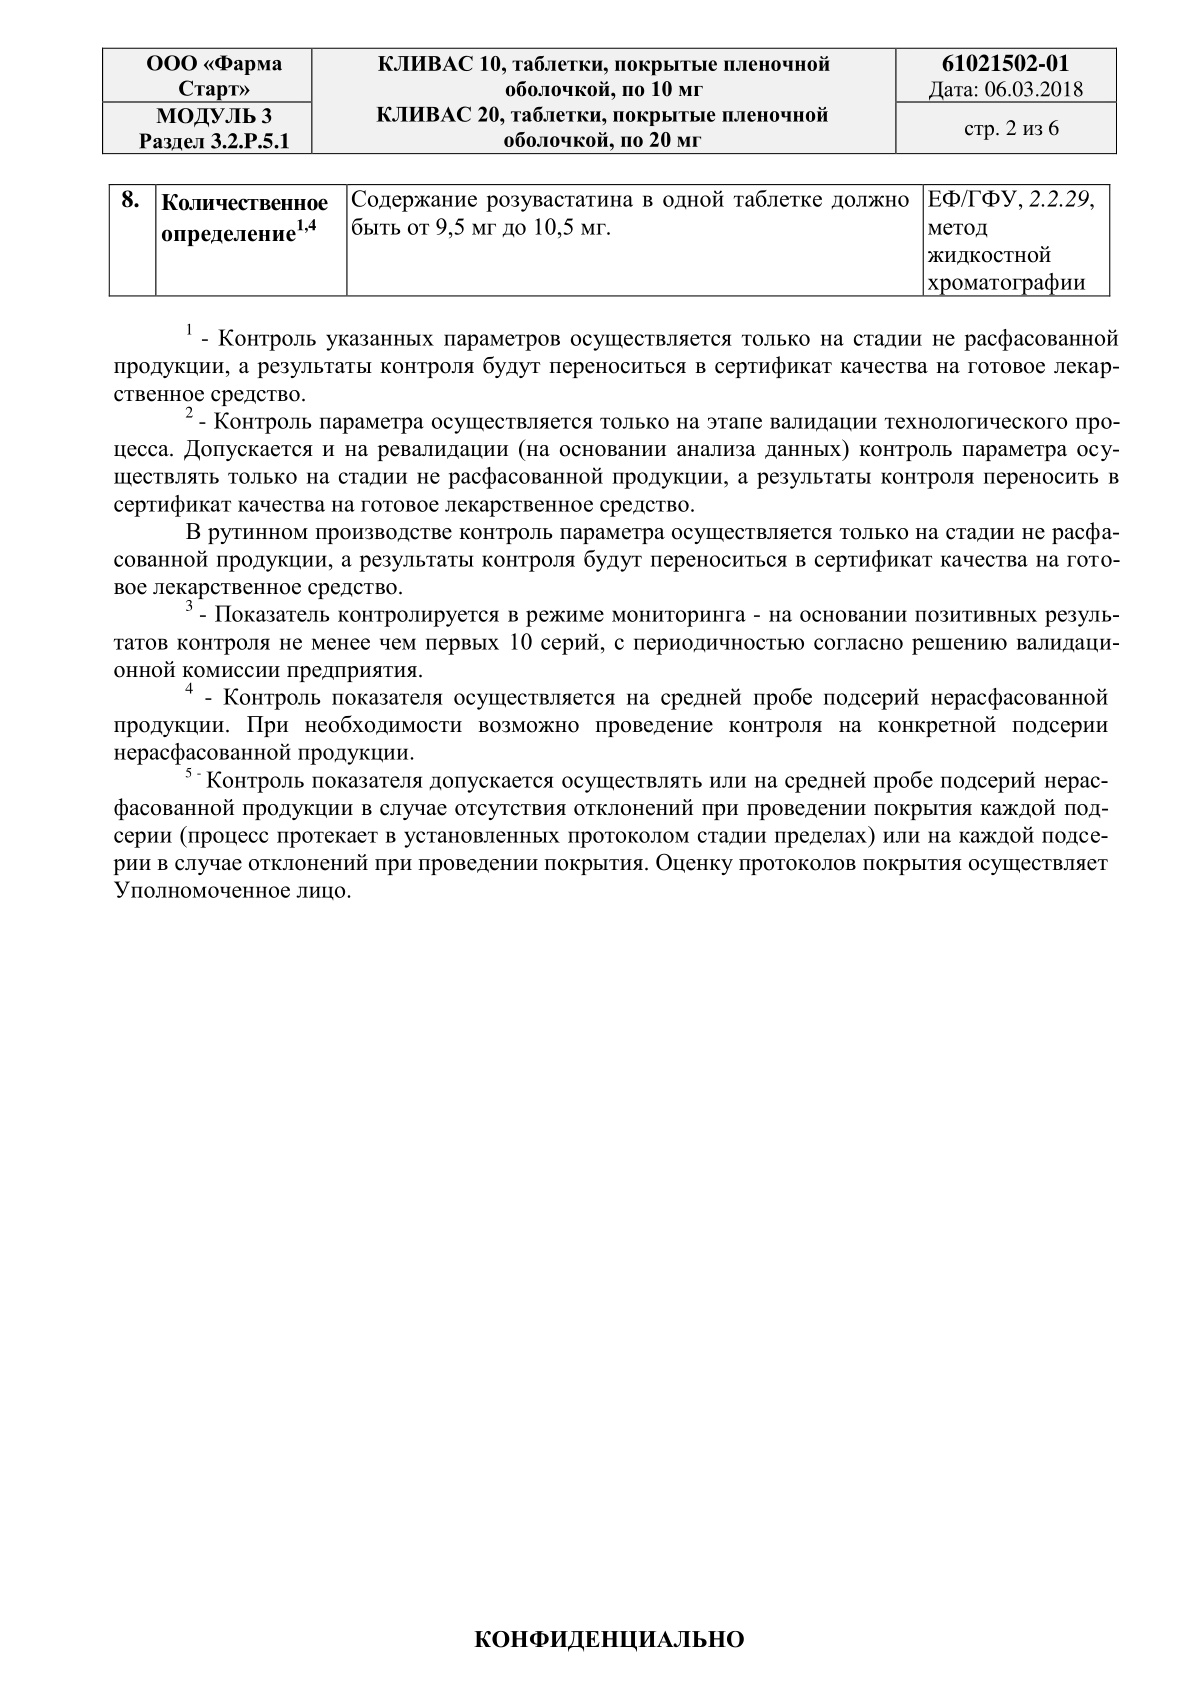full_lined: (108, 184, 1111, 297)
merged_cells: (101, 46, 1118, 155)
